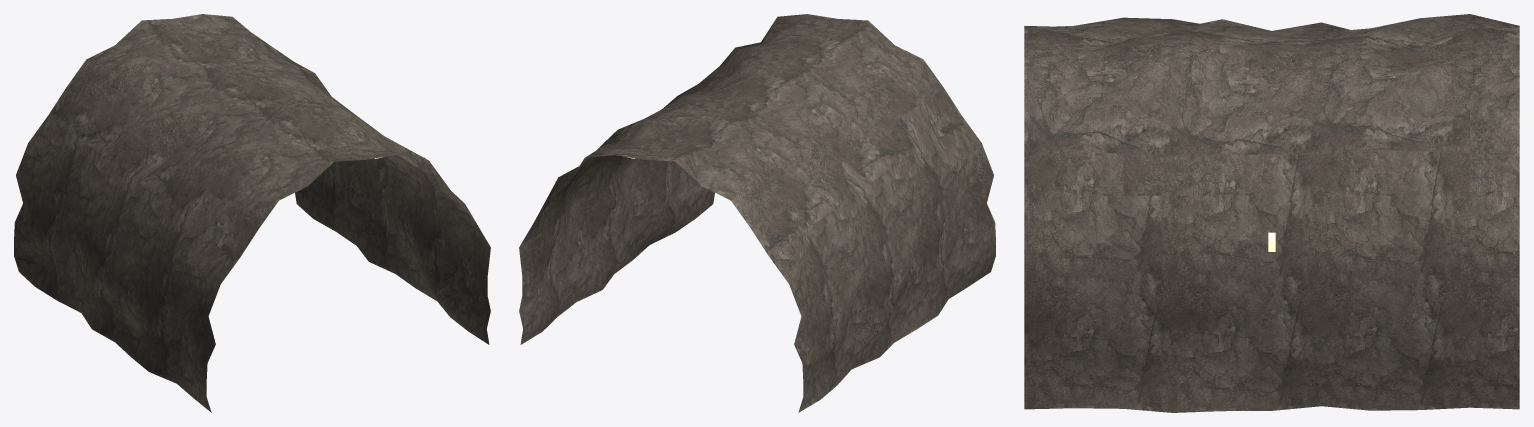
File: rock_tunnel_segment.glb
3 renders of one model, left to right at view 1: azimuth 30°, elevation 25°; view 2: azimuth 150°, elevation 25°; view 3: azimuth 270°, elevation 25°, orthographic. The views are drawn at different scales.
Visible parts, largest first — view 1: rock_tunnel_segment; view 2: rock_tunnel_segment; view 3: rock_tunnel_segment.
Boxes of the visible parts, left/top/right/bottom form: rock_tunnel_segment: left=14, top=14, right=490, bottom=412; rock_tunnel_segment: left=519, top=14, right=995, bottom=412; rock_tunnel_segment: left=1024, top=14, right=1519, bottom=412.
Size of the model in its own units: 8.83 by 6.44 by 10.
1 material, 1 textured.
